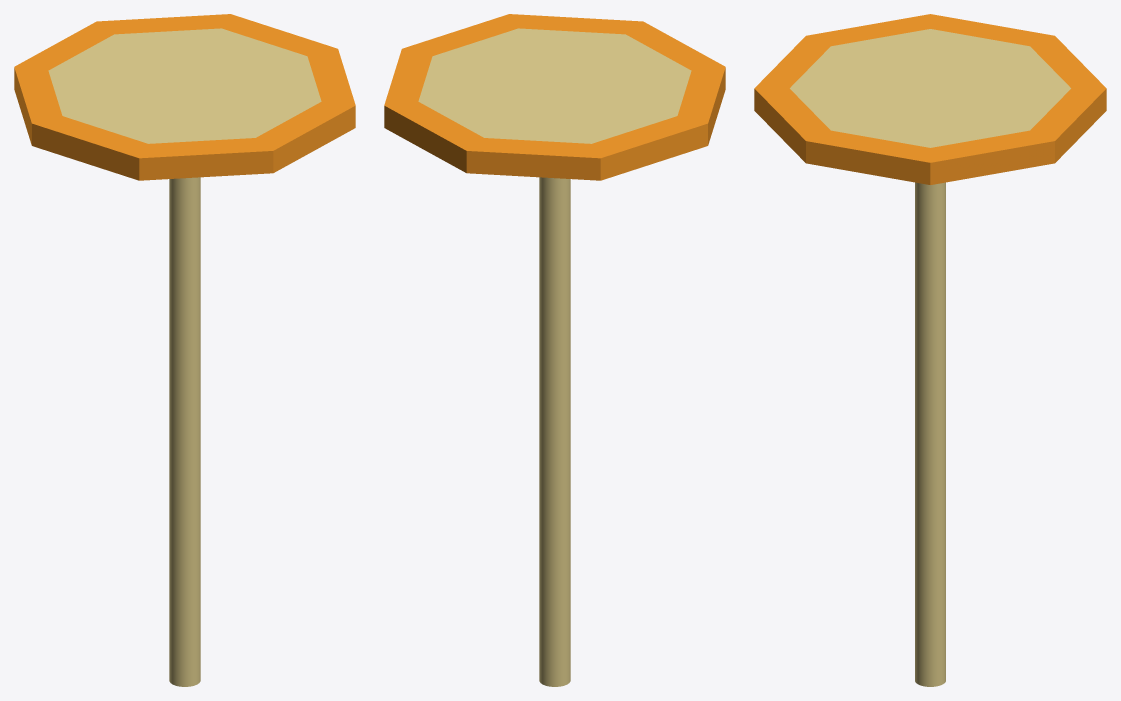
File: platform.fbx
The picture shows the model from 3 angles, left to right: view 1: azimuth 30°, elevation 25°; view 2: azimuth 150°, elevation 25°; view 3: azimuth 270°, elevation 25°; orthographic projection.
Parts seen in each view (by area): view 1: Platform, Pole; view 2: Platform, Pole; view 3: Platform, Pole.
Part boxes in pixels (x1,y1,x2,y2): Platform: (14,14,355,180); Pole: (169,177,200,686); Platform: (384,14,725,180); Pole: (539,177,570,686); Platform: (754,14,1106,184); Pole: (915,182,945,686).
Bounding box in the file's own units: 1250 × 2318 × 1250.
